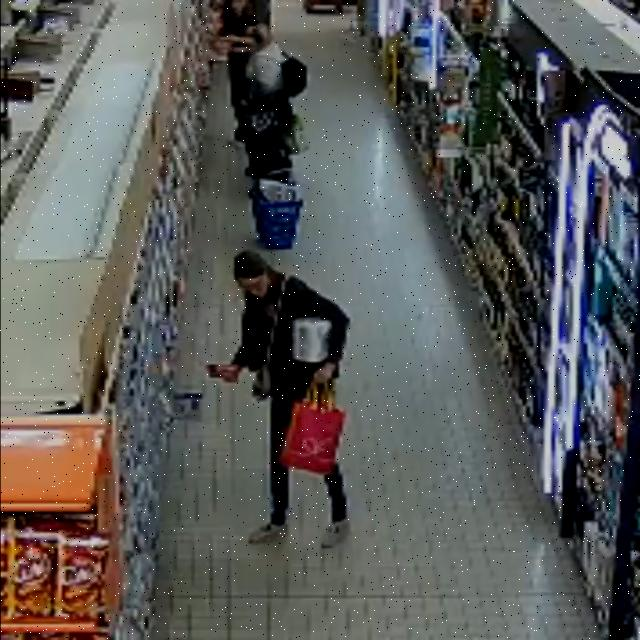article: (292, 317, 332, 362), (207, 364, 241, 379)
bags: (281, 387, 345, 475), (253, 278, 287, 400), (282, 54, 307, 97), (286, 115, 308, 155)
hands: (313, 363, 336, 385)
person: (217, 252, 349, 543), (247, 25, 292, 178), (221, 0, 257, 142)
